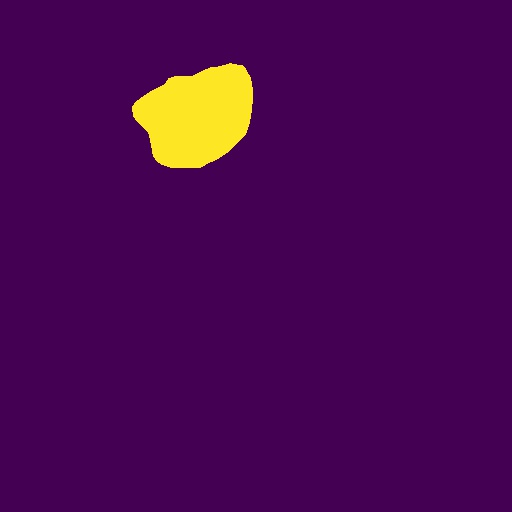Menigiomia_tumour: (132, 63, 253, 168)
